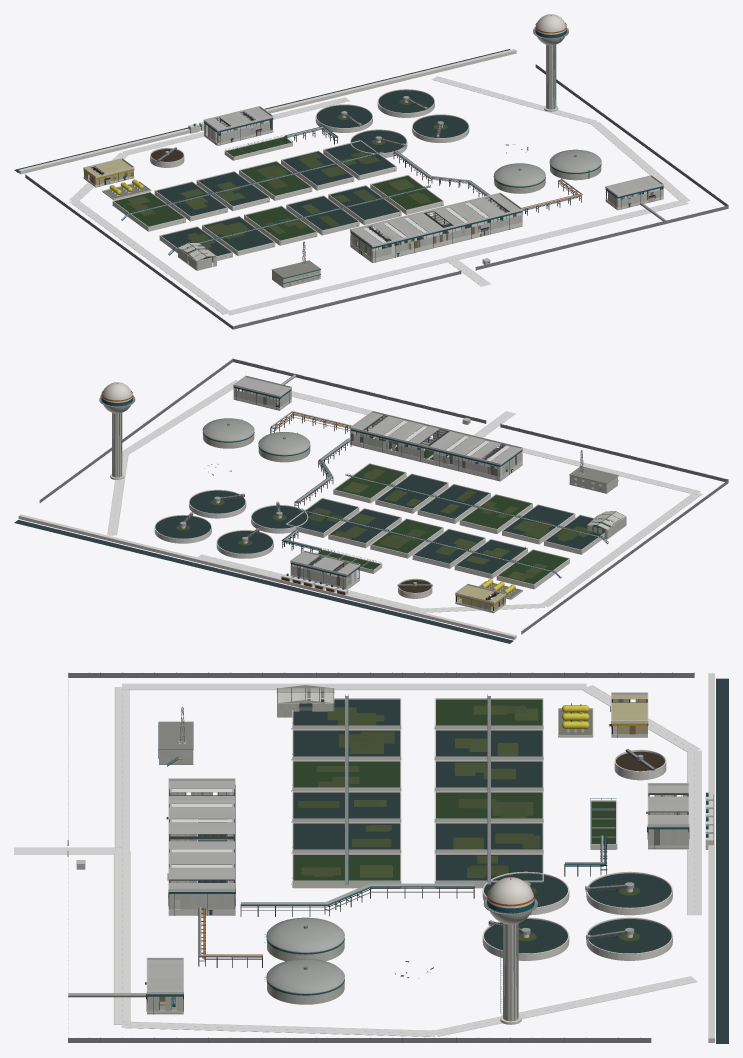
File: water-works.glb
3 renders of one model, top to bottom at view 1: azimuth 30°, elevation 25°; view 2: azimuth 150°, elevation 25°; view 3: azimuth 270°, elevation 25°, orthographic. The views are drawn at different scales.
Visible parts, largest first — view 1: C-1_-1_lod0, C0_-1_lod0, C-1_0_lod0, C0_1_lod0, C-2_-1_lod0, C0_0_lod0, C-2_0_lod0, C-1_1_lod0, C-2_-2_lod0, C0_-2_lod0, C1_-1_lod0, C1_0_lod0 (+5 smaller); view 2: C-1_-1_lod0, C0_1_lod0, C0_-1_lod0, C-1_0_lod0, C-2_-1_lod0, C0_0_lod0, C-2_0_lod0, C-1_1_lod0, C1_-1_lod0, C1_-2_lod0, C-2_-2_lod0, C1_0_lod0 (+5 smaller); view 3: C-1_-1_lod0, C0_-1_lod0, C0_1_lod0, C-2_-1_lod0, C-1_0_lod0, C-2_0_lod0, C0_0_lod0, C-1_1_lod0, C1_-1_lod0, C1_0_lod0, C-2_-2_lod0, C0_-2_lod0 (+6 smaller).
Boxes of the visible parts, left/top/right/bottom form: C-1_-1_lod0: left=175, top=185, right=499, bottom=262; C0_-1_lod0: left=350, top=150, right=580, bottom=262; C-1_0_lod0: left=127, top=141, right=383, bottom=215; C0_1_lod0: left=14, top=49, right=516, bottom=174; C-2_-1_lod0: left=69, top=200, right=305, bottom=314; C0_0_lod0: left=285, top=105, right=468, bottom=187; C-2_0_lod0: left=75, top=179, right=238, bottom=247; C-1_1_lod0: left=122, top=97, right=349, bottom=165; C-2_-2_lod0: left=211, top=241, right=460, bottom=329; C0_-2_lod0: left=372, top=199, right=688, bottom=264; C1_-1_lod0: left=522, top=121, right=690, bottom=209; C1_0_lod0: left=426, top=14, right=604, bottom=153; C-1_-1_lod0: left=346, top=429, right=601, bottom=537; C0_1_lod0: left=14, top=514, right=516, bottom=643; C0_-1_lod0: left=258, top=411, right=522, bottom=502; C-1_0_lod0: left=299, top=500, right=554, bottom=572; C-2_-1_lod0: left=497, top=473, right=702, bottom=606; C0_0_lod0: left=188, top=478, right=370, bottom=550; C-2_0_lod0: left=450, top=530, right=604, bottom=606; C-1_1_lod0: left=197, top=548, right=424, bottom=611; C1_-1_lod0: left=122, top=380, right=351, bottom=460; C1_-2_lod0: left=218, top=358, right=485, bottom=423; C-2_-2_lod0: left=488, top=424, right=728, bottom=507; C1_0_lod0: left=99, top=382, right=231, bottom=535; C-1_-1_lod0: left=169, top=694, right=400, bottom=915; C0_-1_lod0: left=169, top=778, right=474, bottom=959; C0_1_lod0: left=586, top=673, right=728, bottom=1043; C-2_-1_lod0: left=122, top=683, right=586, bottom=764; C-1_0_lod0: left=400, top=694, right=591, bottom=884; C-2_0_lod0: left=400, top=688, right=599, bottom=761; C0_0_lod0: left=371, top=835, right=606, bottom=953; C-1_1_lod0: left=590, top=750, right=713, bottom=915; C1_-1_lod0: left=121, top=906, right=435, bottom=1037; C1_0_lod0: left=394, top=877, right=697, bottom=1036; C-2_-2_lod0: left=68, top=673, right=193, bottom=851; C0_-2_lod0: left=68, top=778, right=185, bottom=1024.
Size of what is drawn, in the model's own units: 400 by 72.78 by 331.
